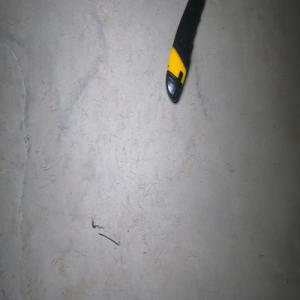Cutter: (164, 0, 206, 104)
